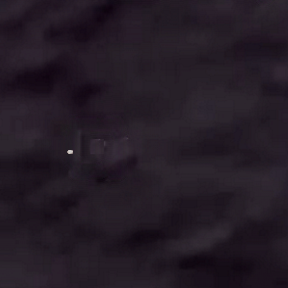Targetw: (66, 149, 75, 155)
